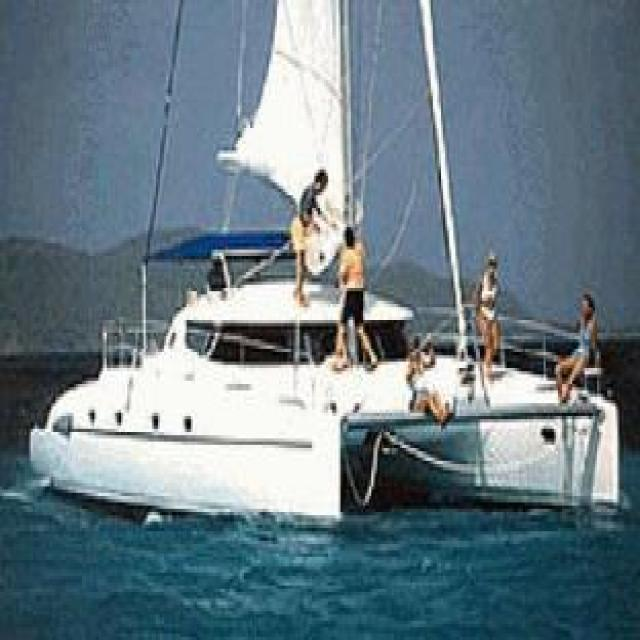Ship: (29, 3, 634, 529)
